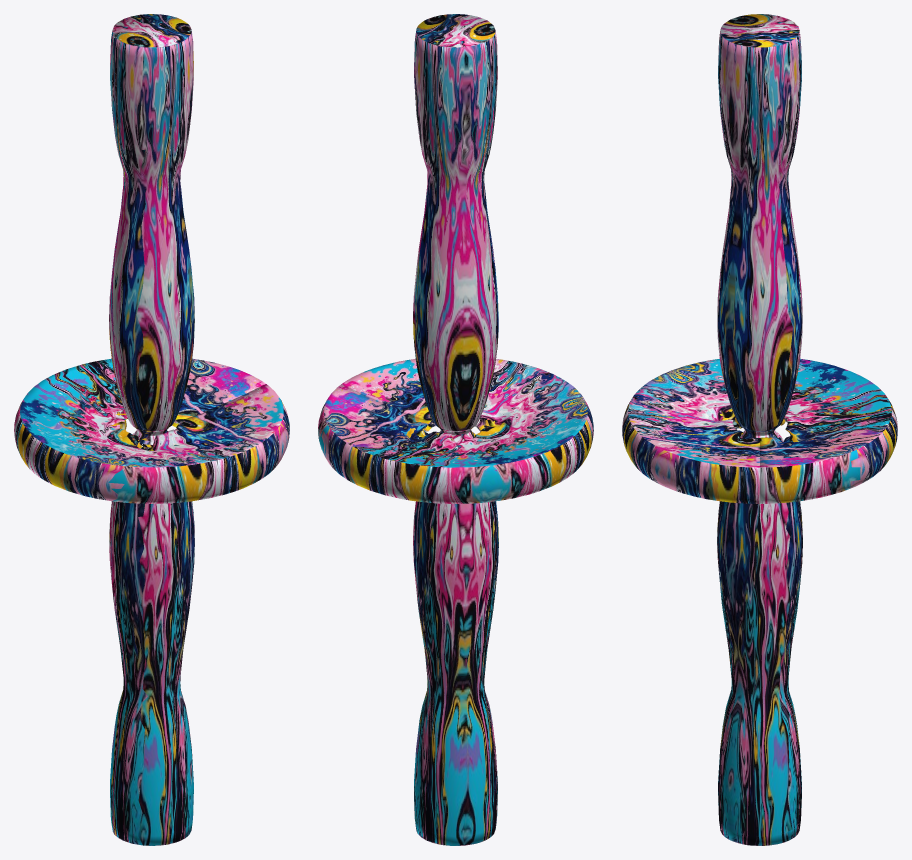
Rendered from dg-tau.glb.
The picture shows the model from 3 angles, left to right: view 1: azimuth 30°, elevation 25°; view 2: azimuth 150°, elevation 25°; view 3: azimuth 270°, elevation 25°; orthographic projection.
Visible parts, largest first — view 1: A; view 2: A; view 3: A.
Part boxes in pixels (bbox=[...]): A: bbox=[14, 14, 289, 845]; A: bbox=[318, 14, 593, 845]; A: bbox=[622, 14, 897, 845].
Bounding box in the file's own units: 0.6262 × 2 × 0.6256.
1 material, 1 textured.
